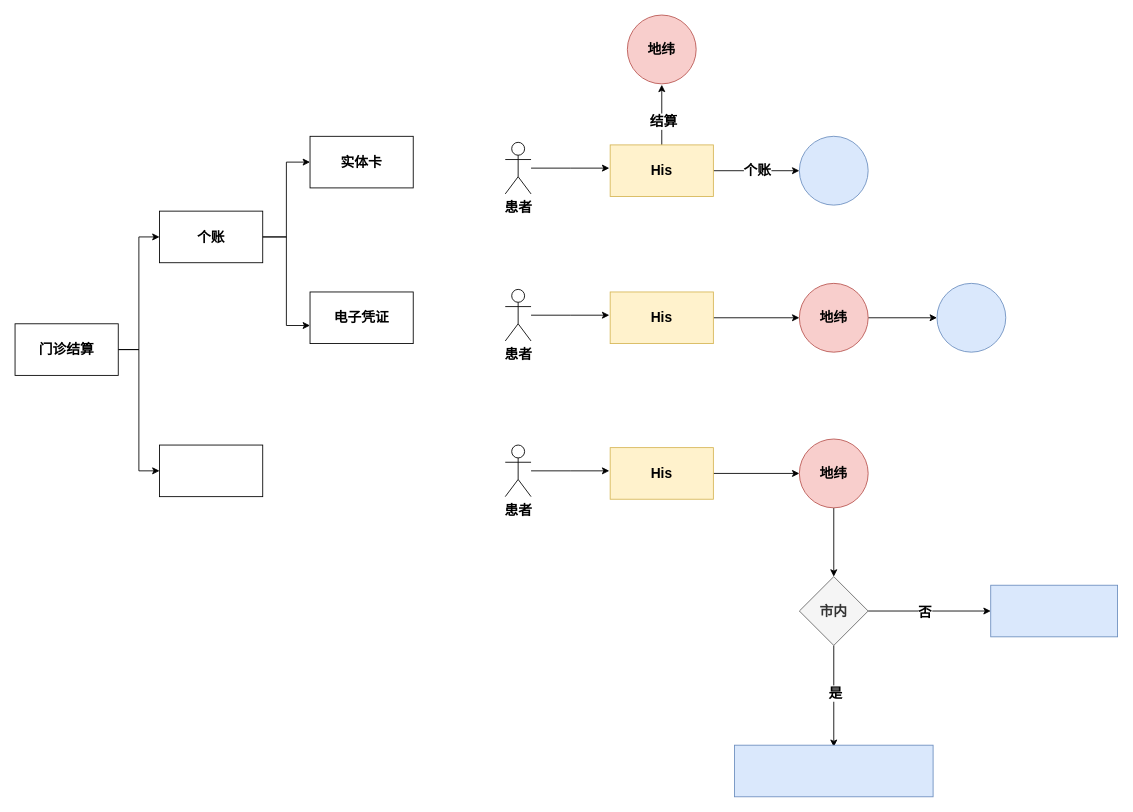
The diagram is 1133 pixels wide and 812 high, and some of its shapes have lost their labels. The centre of each missing label's shape, as x and y in pixels:
"各地级市医保机构" belongs at (x=1054, y=610).
"工行" belongs at (x=971, y=317).
"统筹" belongs at (x=211, y=470).
"聊城市职工医疗保险事业处、聊城市居民医疗保险事业处等37个医保机构" belongs at (x=833, y=770).
"银联" belongs at (x=833, y=170).
